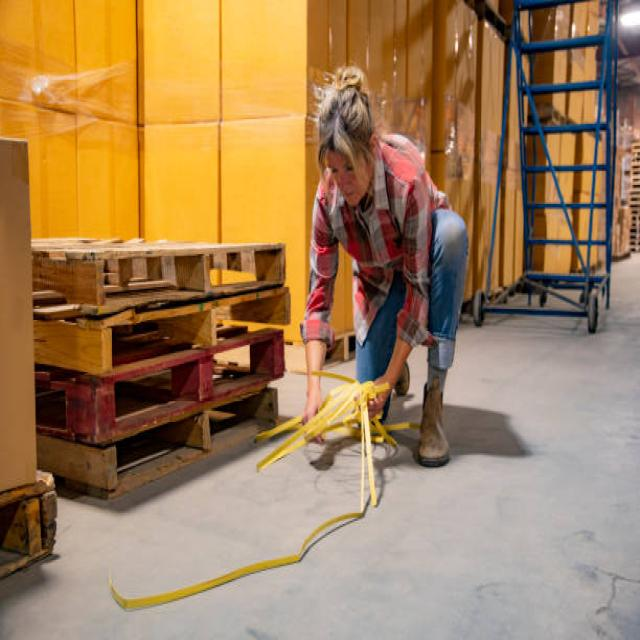Wooden-Pallets: (101, 385, 284, 511), (97, 329, 287, 438), (94, 278, 292, 374), (90, 244, 285, 315)
